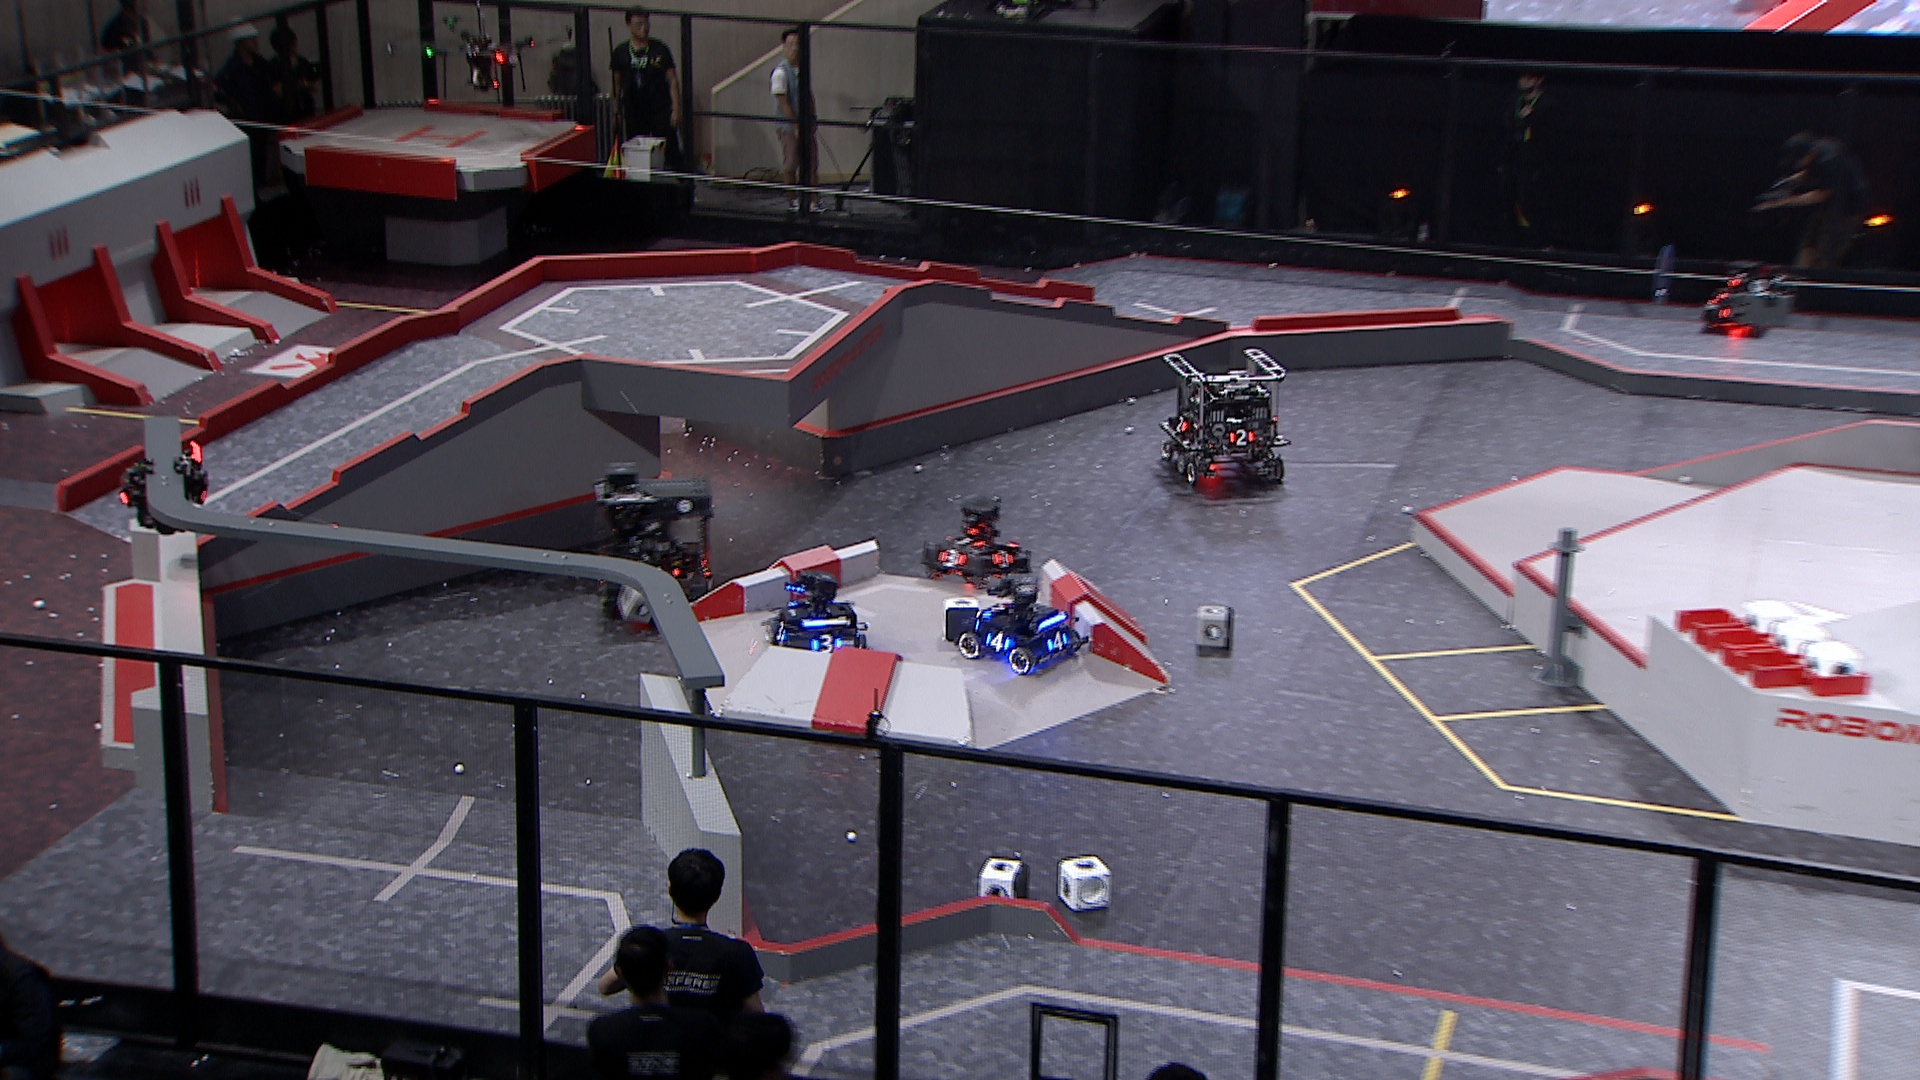armor: (808, 632, 845, 654), (936, 549, 968, 572), (982, 632, 1011, 655), (1225, 429, 1257, 448), (951, 534, 986, 550), (1044, 632, 1069, 651), (992, 549, 1015, 568), (773, 621, 789, 644), (1174, 415, 1188, 434)
car: (591, 460, 723, 628), (1156, 345, 1295, 491), (953, 571, 1091, 674), (920, 495, 1035, 584), (764, 571, 870, 661), (1702, 261, 1782, 338)
watcher: (117, 438, 215, 535)
